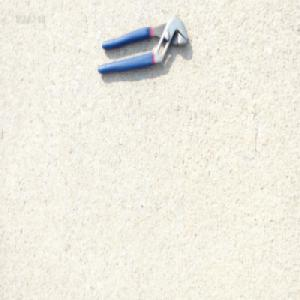Pliers: (96, 15, 189, 76)
